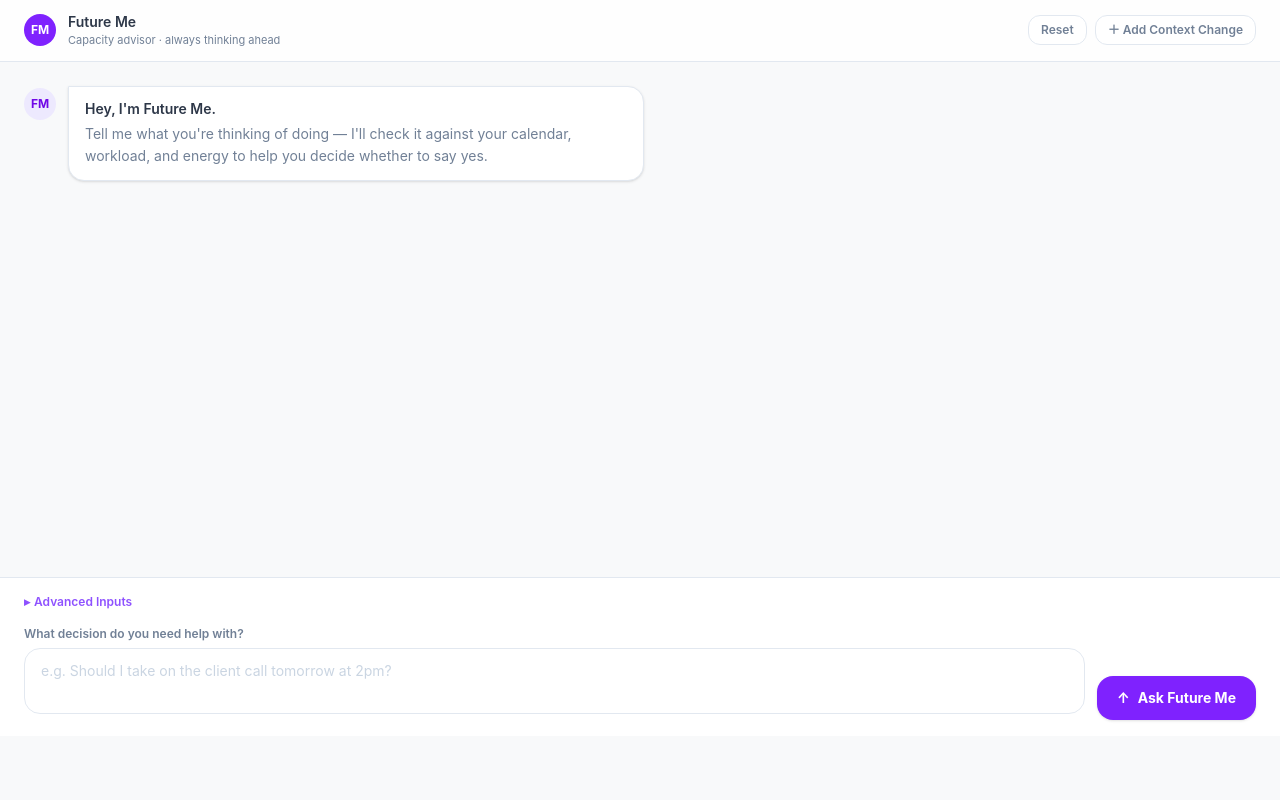
Test: DecisionsPage - RECOMMEND › RECOMMEND explanation separates confirmed facts, derived context, assumptions, uncertainty, and trade-offs
The width and height of the screenshot is (1280, 800).
Type "Should I work?" into the text box labelled "What decision do you need help with?" at [554, 681], box x1=24 y1=648 x2=1085 y2=714
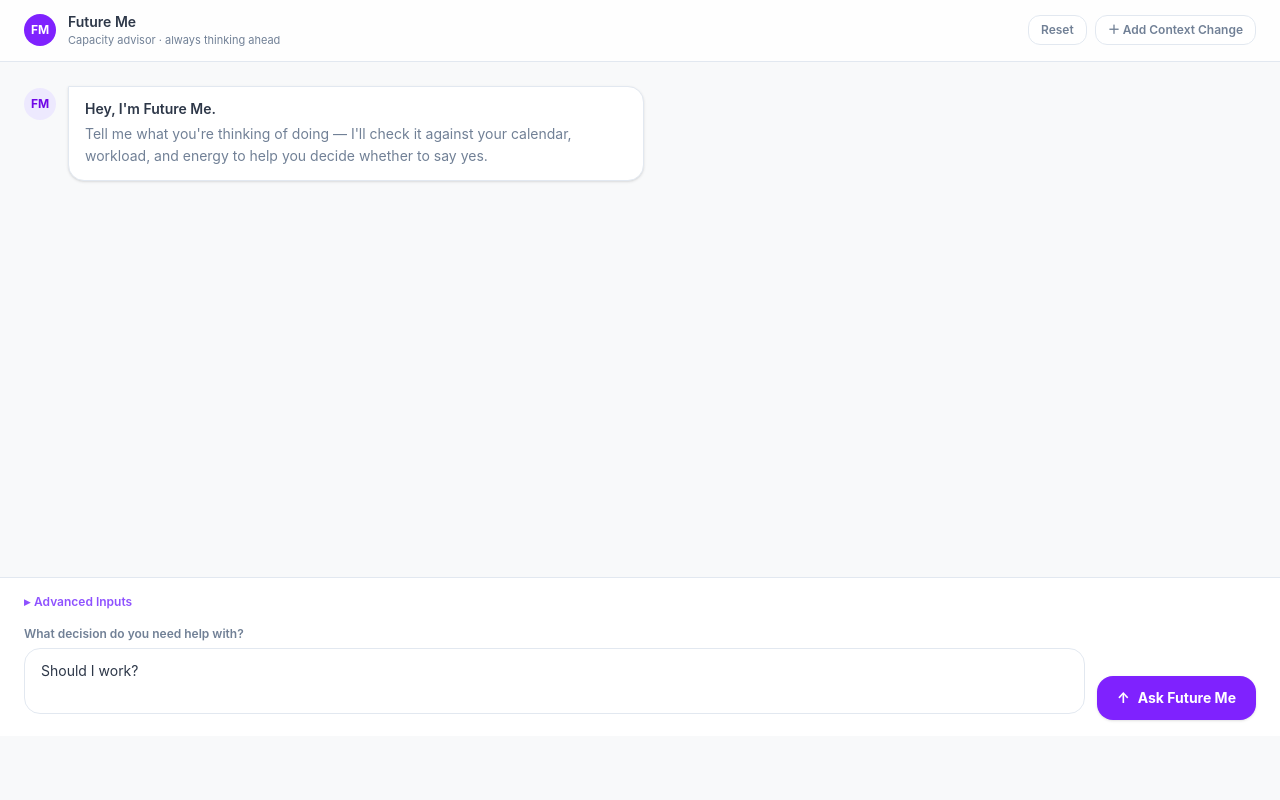
Click the button "↑ Ask Future Me" at [1176, 698], box x1=1097 y1=676 x2=1256 y2=720
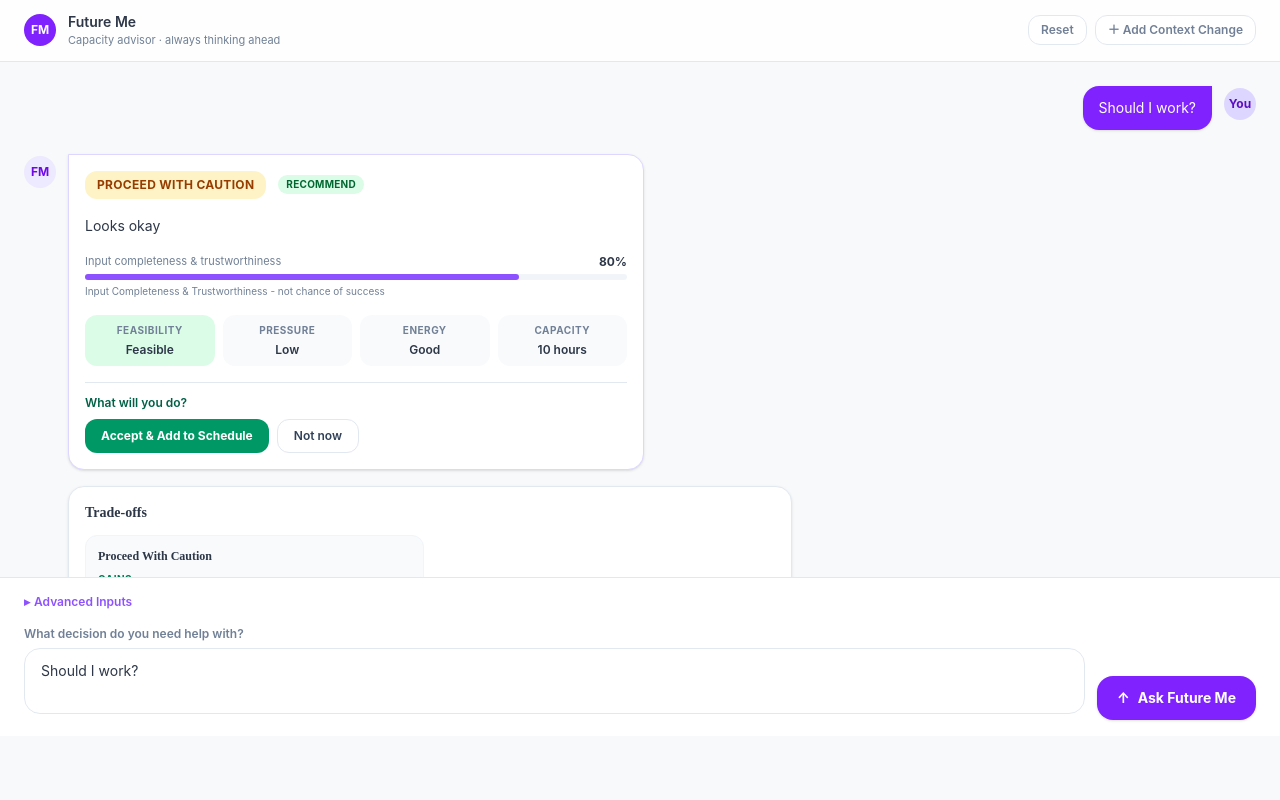
Now the heading "Trade-offs" is shown, box x1=85 y1=505 x2=147 y2=520
Now the text "Input Completeness & Trustworthiness - not chance of success" is shown, box x1=85 y1=285 x2=385 y2=297
